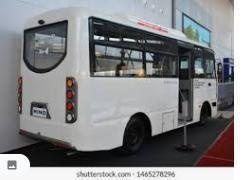bus: (18, 8, 222, 155)
